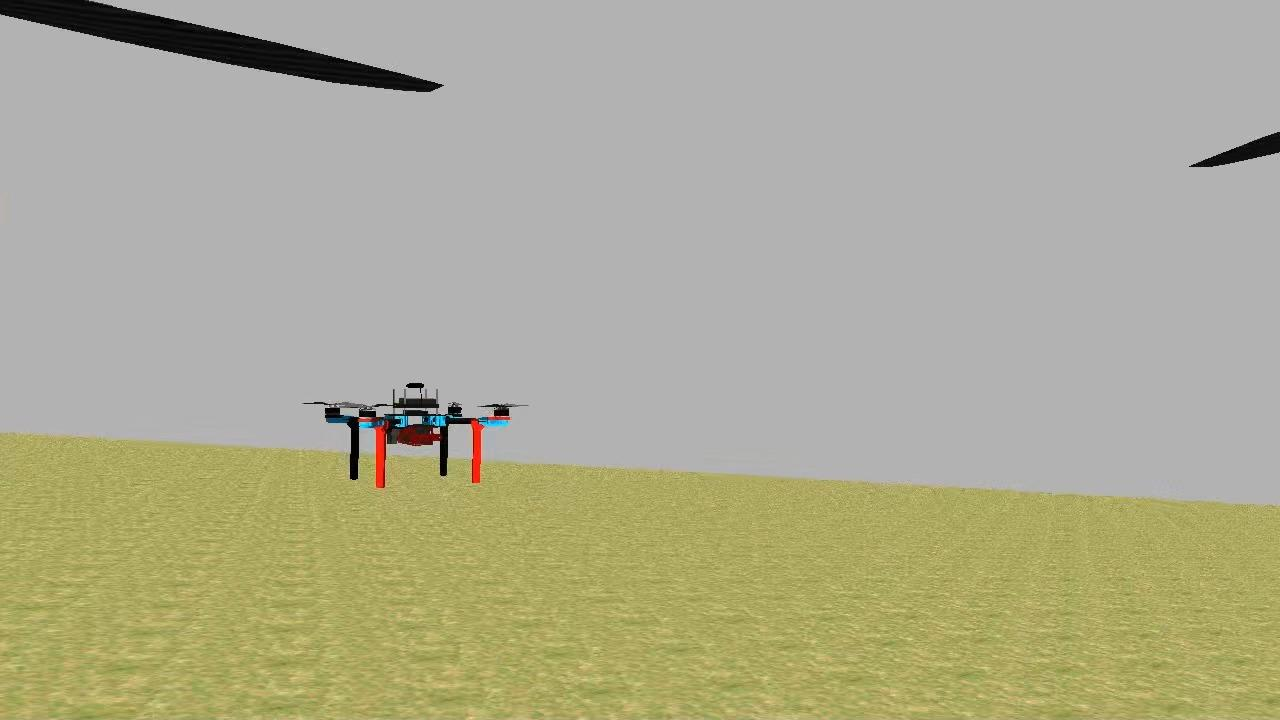UAV: (324, 374, 518, 492)
